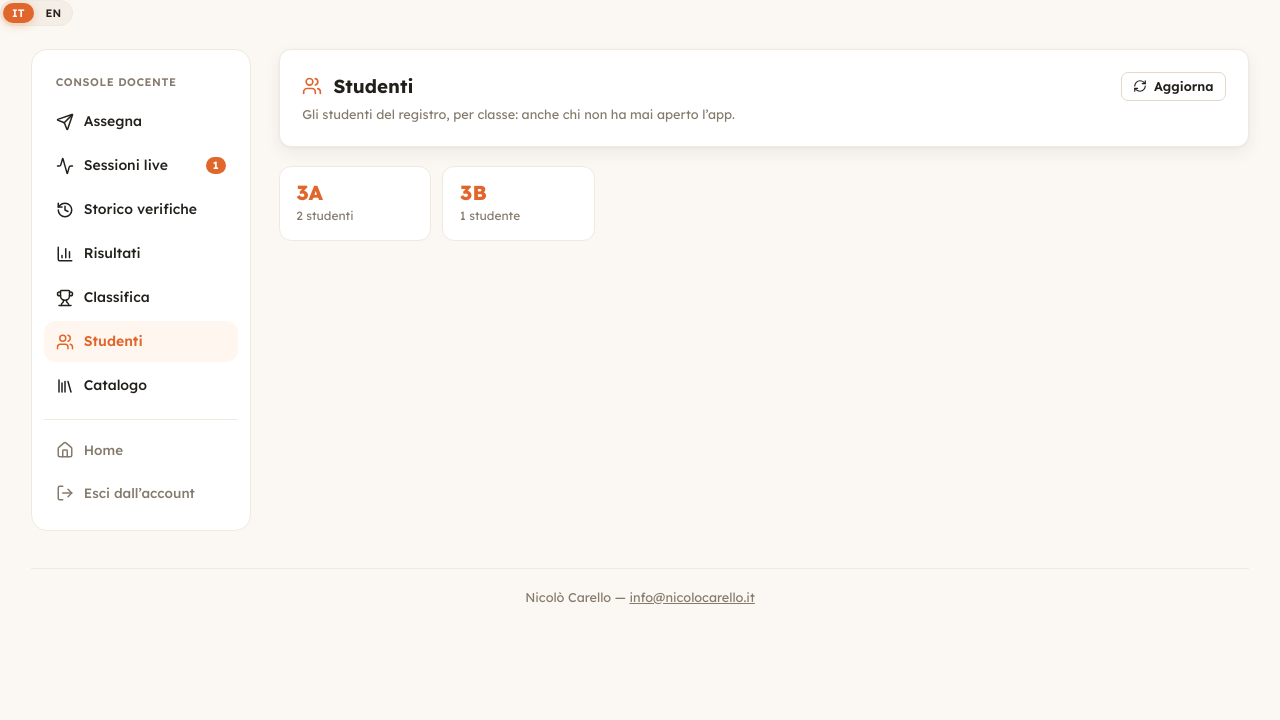
Test case: console docente — Studenti e Catalogo › apre la cartella dello studente, da cui assegnargli una verifica
Click the button "3A 2 studenti": point(355, 204) [279, 166, 431, 241]
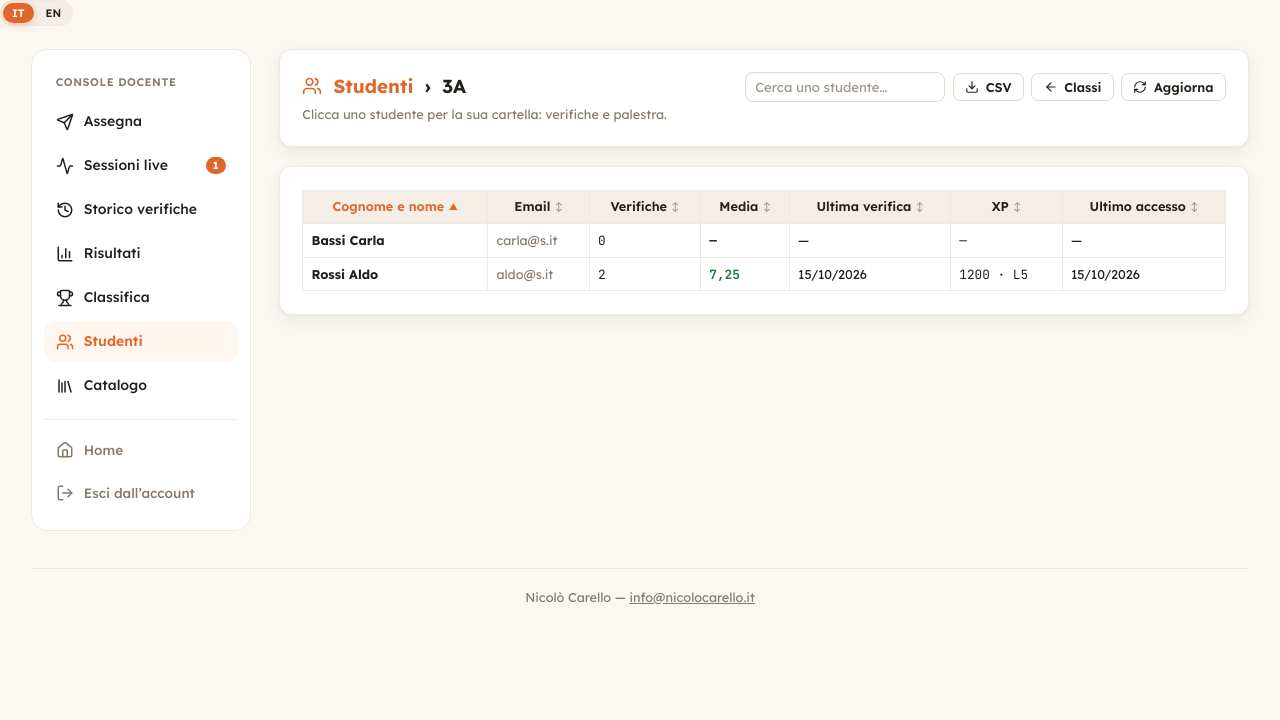
Now the button with aria-label "Cartella di Rossi Aldo" is shown
Click the button with aria-label "Cartella di Rossi Aldo": point(764, 274) [303, 257, 1225, 291]
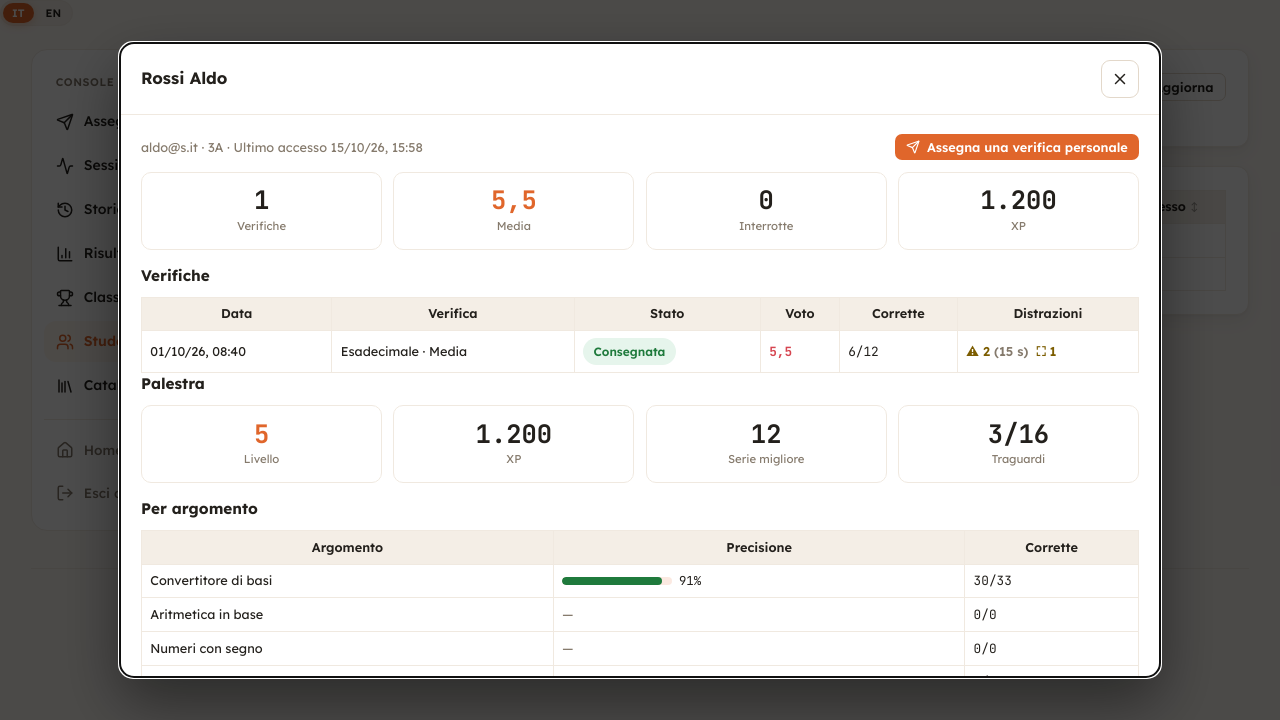
Now the button "Assegna una verifica personale" is shown
Click the button "Assegna una verifica personale": point(1017, 147) [895, 134, 1139, 160]
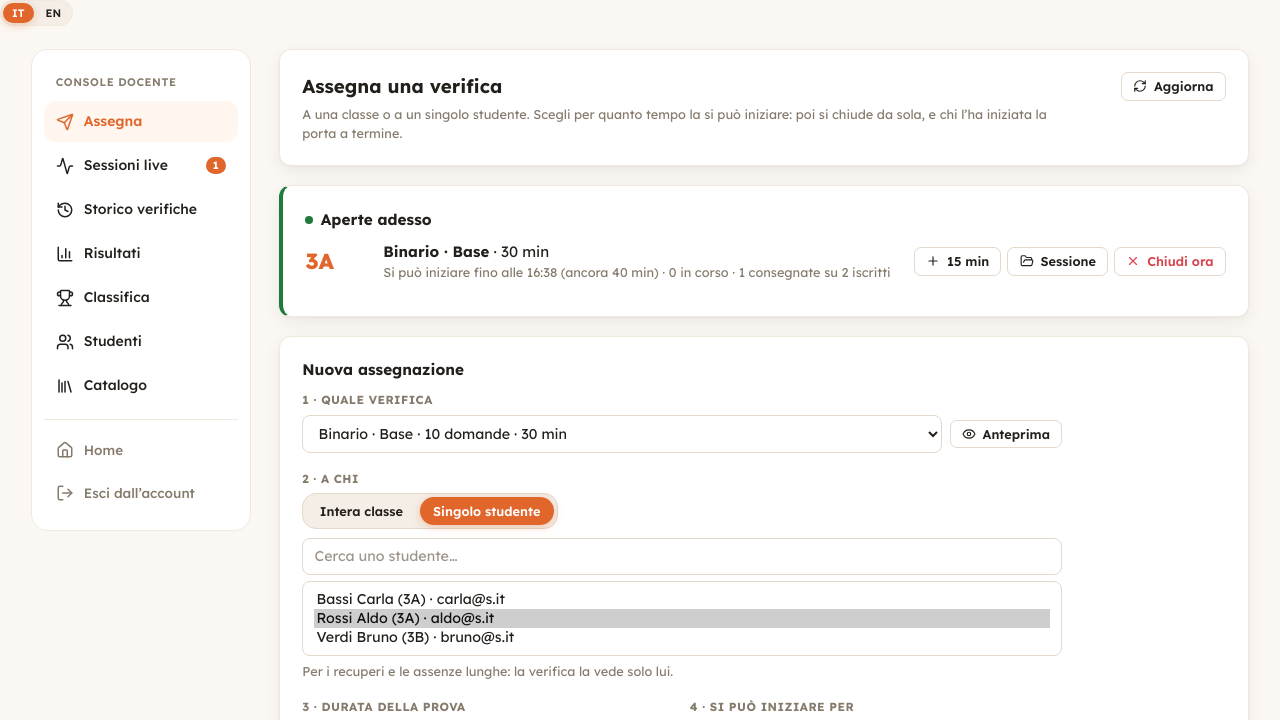
Now the radio button labelled "Singolo studente" is shown, box [420, 497, 554, 525]
